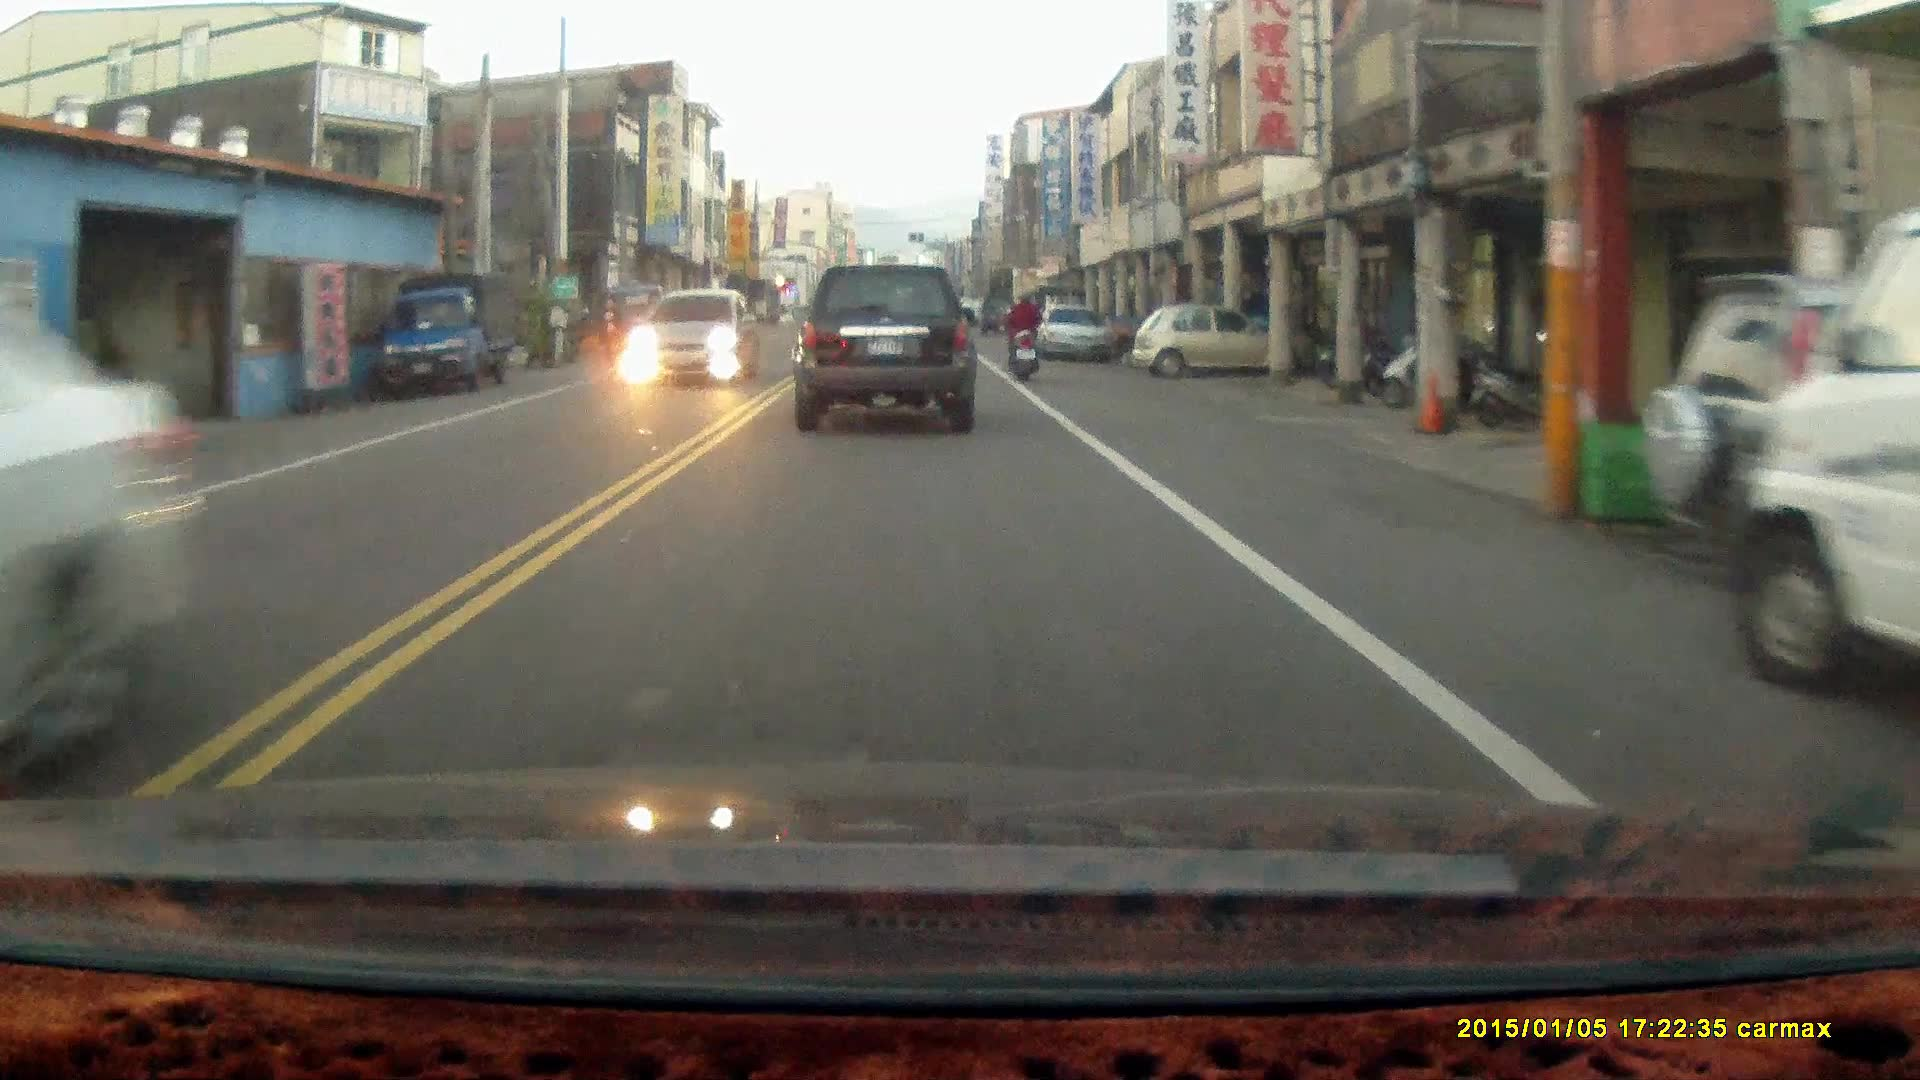pedestrian: (599, 290, 621, 357)
rider: (1004, 287, 1041, 382)
vehicle: (1735, 161, 1920, 712), (1634, 268, 1919, 592), (788, 260, 979, 431), (380, 268, 528, 397), (631, 284, 765, 384), (1134, 301, 1293, 377), (1038, 301, 1114, 363)
